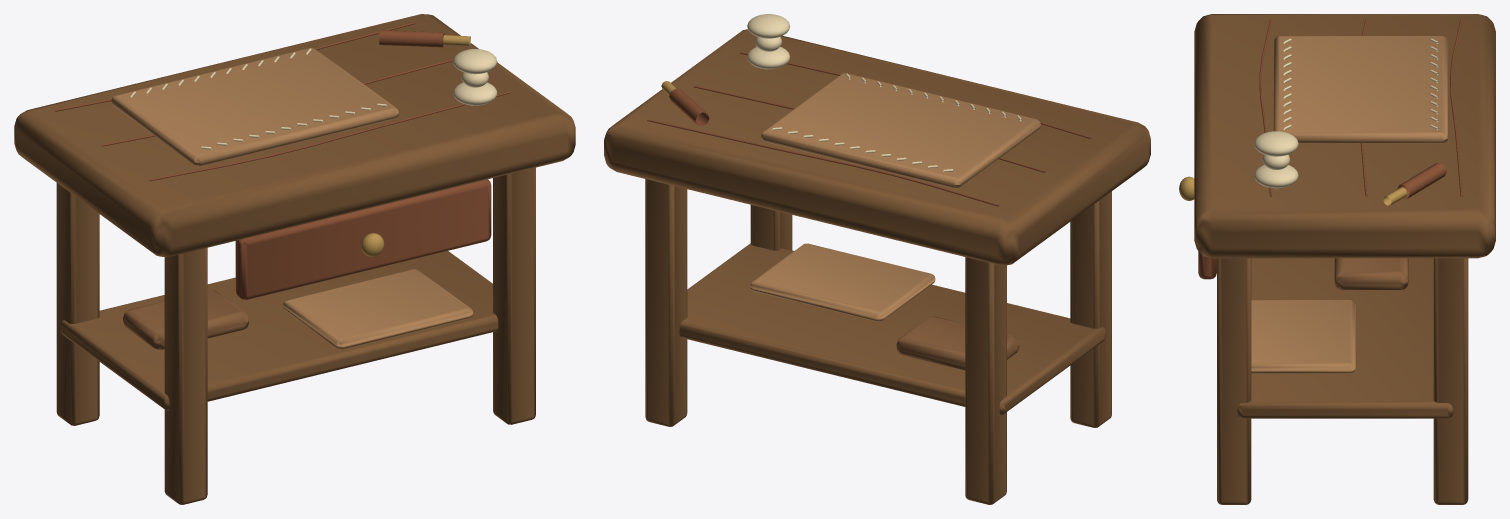
File: workbench.glb
The picture shows the model from 3 angles, left to right: view 1: azimuth 30°, elevation 25°; view 2: azimuth 150°, elevation 25°; view 3: azimuth 270°, elevation 25°; orthographic projection. The views are drawn at different scales.
Visible parts, largest first — view 1: workbench_Bench_walnut, workbench_Leather_work, workbench_Ger_wood, workbench_Leather, workbench_Flax_thread, workbench_Brass; view 2: workbench_Bench_walnut, workbench_Leather_work, workbench_Leather, workbench_Flax_thread, workbench_Ger_wood; view 3: workbench_Bench_walnut, workbench_Leather_work, workbench_Flax_thread, workbench_Leather, workbench_Ger_wood, workbench_Brass.
Boxes of the visible parts, x1=… form: workbench_Bench_walnut: x1=14, y1=14, x2=575, y2=504; workbench_Leather_work: x1=111, y1=48, x2=472, y2=349; workbench_Ger_wood: x1=54, y1=22, x2=510, y2=299; workbench_Leather: x1=123, y1=290, x2=248, y2=349; workbench_Flax_thread: x1=130, y1=48, x2=497, y2=149; workbench_Brass: x1=361, y1=35, x2=470, y2=256; workbench_Bench_walnut: x1=604, y1=29, x2=1150, y2=504; workbench_Leather_work: x1=750, y1=73, x2=1040, y2=321; workbench_Leather: x1=896, y1=316, x2=1019, y2=370; workbench_Flax_thread: x1=747, y1=14, x2=1022, y2=171; workbench_Ger_wood: x1=647, y1=51, x2=1091, y2=206; workbench_Bench_walnut: x1=1194, y1=14, x2=1495, y2=504; workbench_Leather_work: x1=1251, y1=36, x2=1448, y2=373; workbench_Flax_thread: x1=1254, y1=38, x2=1438, y2=188; workbench_Leather: x1=1334, y1=258, x2=1408, y2=289; workbench_Ger_wood: x1=1198, y1=19, x2=1462, y2=279; workbench_Brass: x1=1179, y1=176, x2=1407, y2=205.
Bounding box in the file's own units: 0.93 × 0.741 × 0.599.
